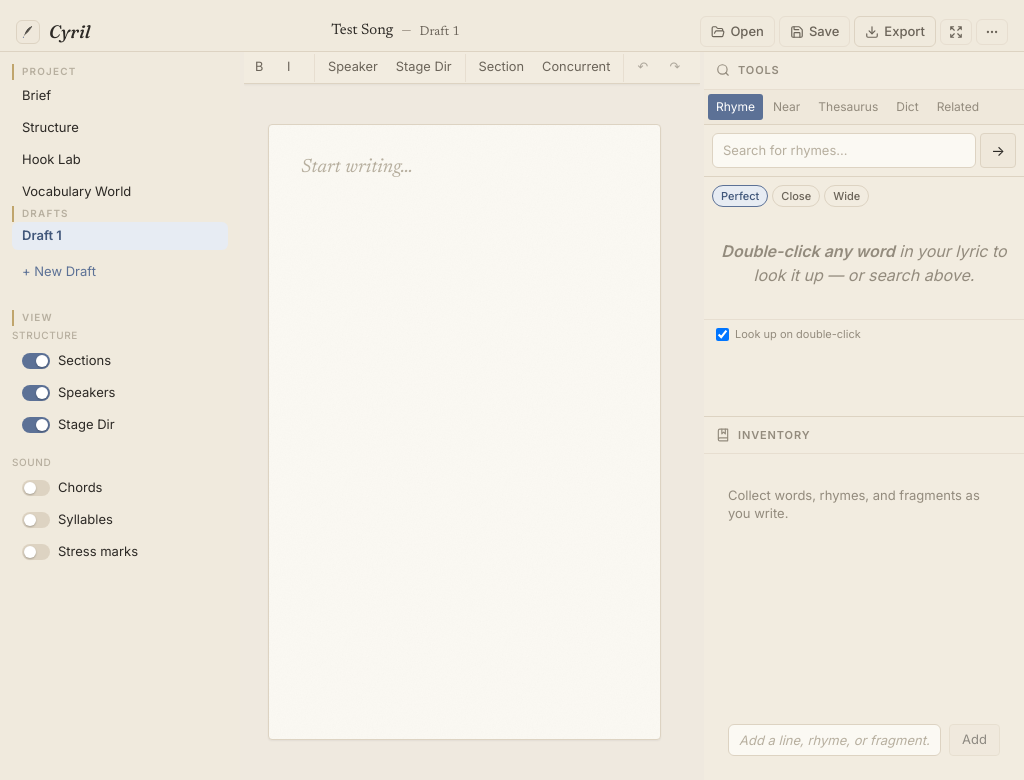
Test: T-14.04: Project actions in top bar › T-14.04: Project actions are in the top bar on one row; primary actions one click, secondary in overflow menu
Expected: the button with test id "topbar-open-btn" is shown, [700, 16, 775, 47]
Expected: the button with test id "topbar-save-btn" is shown, [779, 16, 850, 47]
Opening the overflow reveals the secondary actions
Click the button with test id "topbar-overflow-btn" at coordinates (992, 32), box [976, 18, 1008, 44]
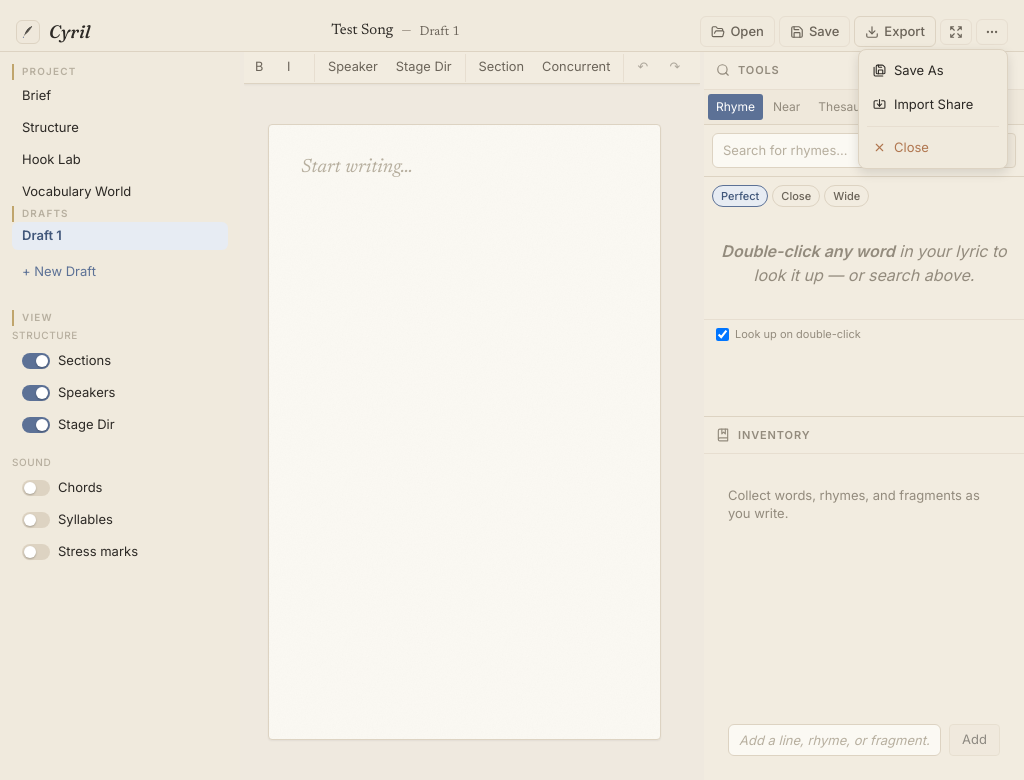
Expected: the menu with test id "topbar-overflow-menu" is shown, [858, 48, 1008, 169]
Expected: the menu item "Save As" is shown, [863, 54, 1003, 87]
Expected: the menu item "Close" is shown, [863, 130, 1003, 164]
